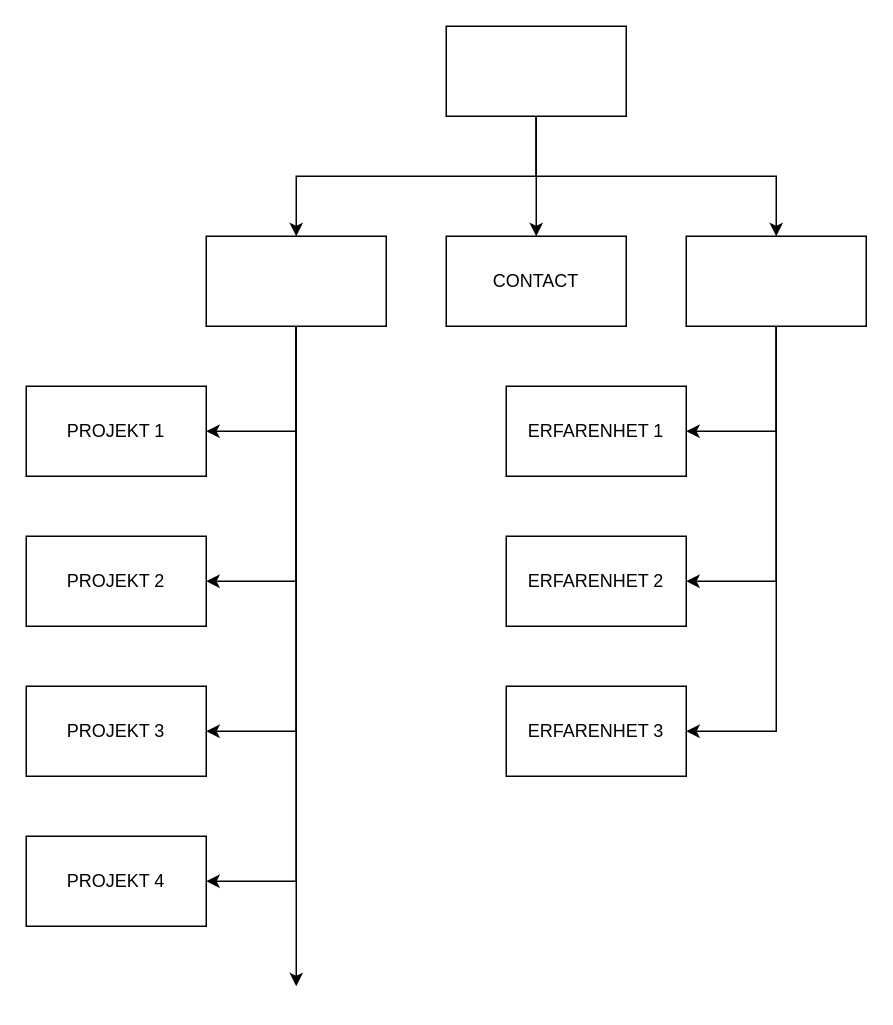
This 893x1025 diagram has some shape labels left out. The centre of each missing label's shape, as x and y in pixels:
ABOUT: point (775, 280)
HOME: point (535, 70)
MY WORK: point (295, 280)
